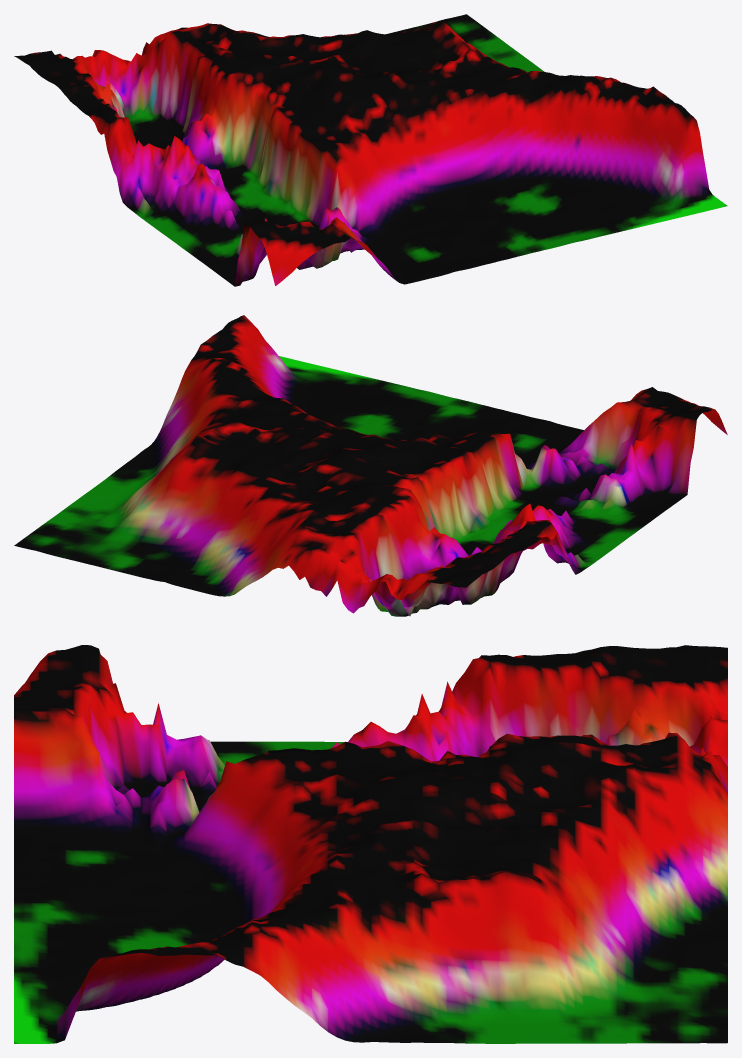
The model's file is SM_AlUla_Terrain_1_2.fbx.
3 views of the same model, one above another, from view 1: azimuth 30°, elevation 25°; view 2: azimuth 150°, elevation 25°; view 3: azimuth 270°, elevation 25° (orthographic). The views are drawn at different scales.
Parts seen in each view (by area): view 1: SM_AlUla_Terrain_1_2; view 2: SM_AlUla_Terrain_1_2; view 3: SM_AlUla_Terrain_1_2.
Part boxes in pixels (<box>): SM_AlUla_Terrain_1_2: <box>14,14,727,286</box>; SM_AlUla_Terrain_1_2: <box>14,315,727,616</box>; SM_AlUla_Terrain_1_2: <box>14,645,727,1043</box>.
Bounding box in the file's own units: 50400 × 8206 × 50400.
